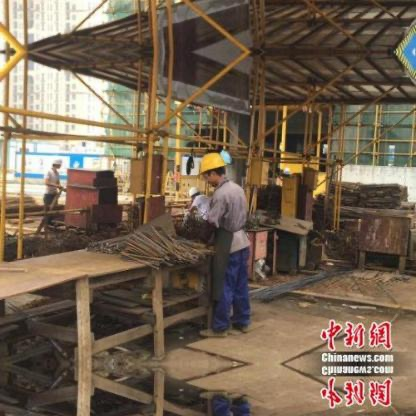Safety Helmet: (193, 148, 229, 187), (182, 181, 205, 209), (47, 153, 67, 178)
